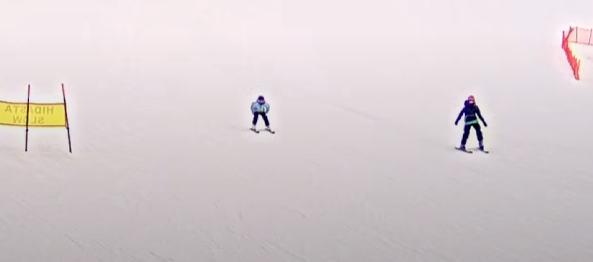skier: (454, 94, 490, 154), (249, 96, 275, 134)
